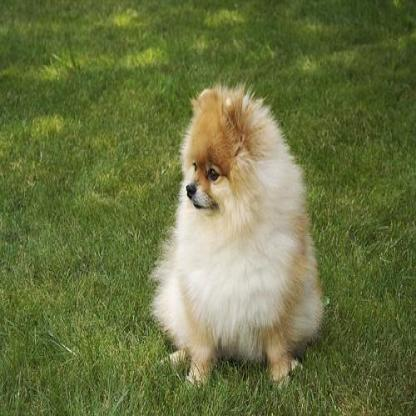Pomeranian: (148, 80, 324, 396)
